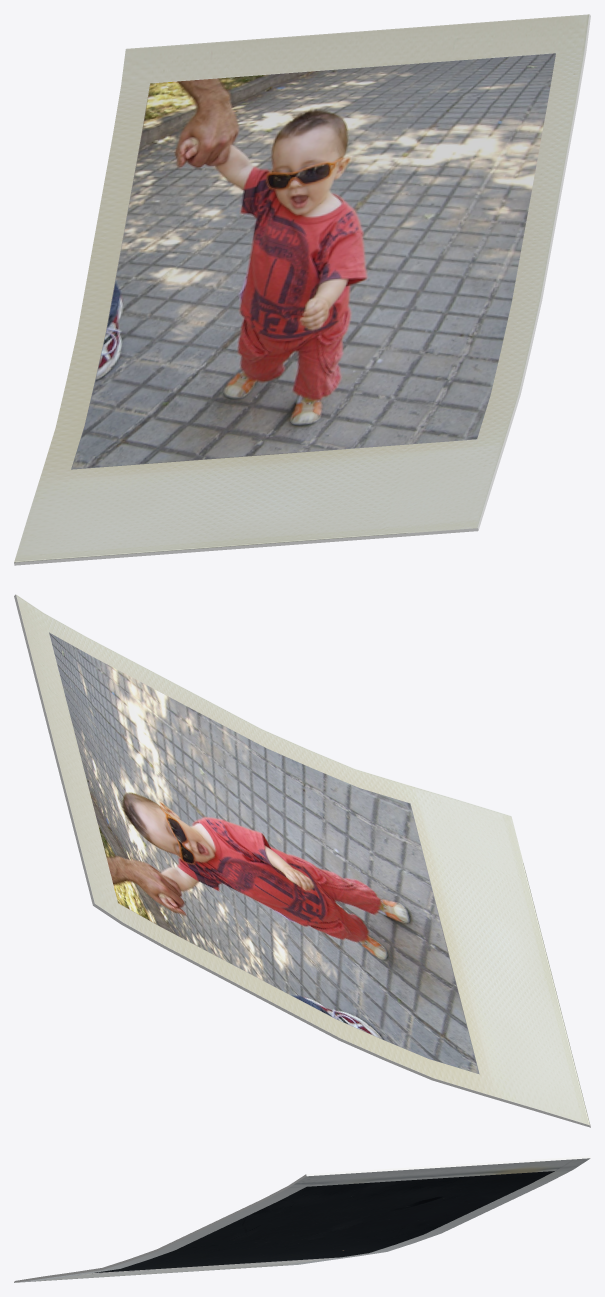
Rendered from polaroid_aboutme.glb.
3 renders of one model, top to bottom at view 1: azimuth 30°, elevation 25°; view 2: azimuth 150°, elevation 25°; view 3: azimuth 270°, elevation 25°, orthographic. The views are drawn at different scales.
Visible parts, largest first — view 1: Object_3, Object_5; view 2: Object_3, Object_5; view 3: Object_4, Object_5.
Boxes of the visible parts, x1,y1,x2,y2 form: Object_3: (71,53,555,469); Object_5: (14,14,590,565); Object_3: (49,632,479,1074); Object_5: (14,594,590,1127); Object_4: (95,1171,554,1272); Object_5: (14,1156,590,1282).
Bounding box in the file's own units: 27.2 × 18.12 × 31.5.
Materials: 3 (3 with a texture image).
